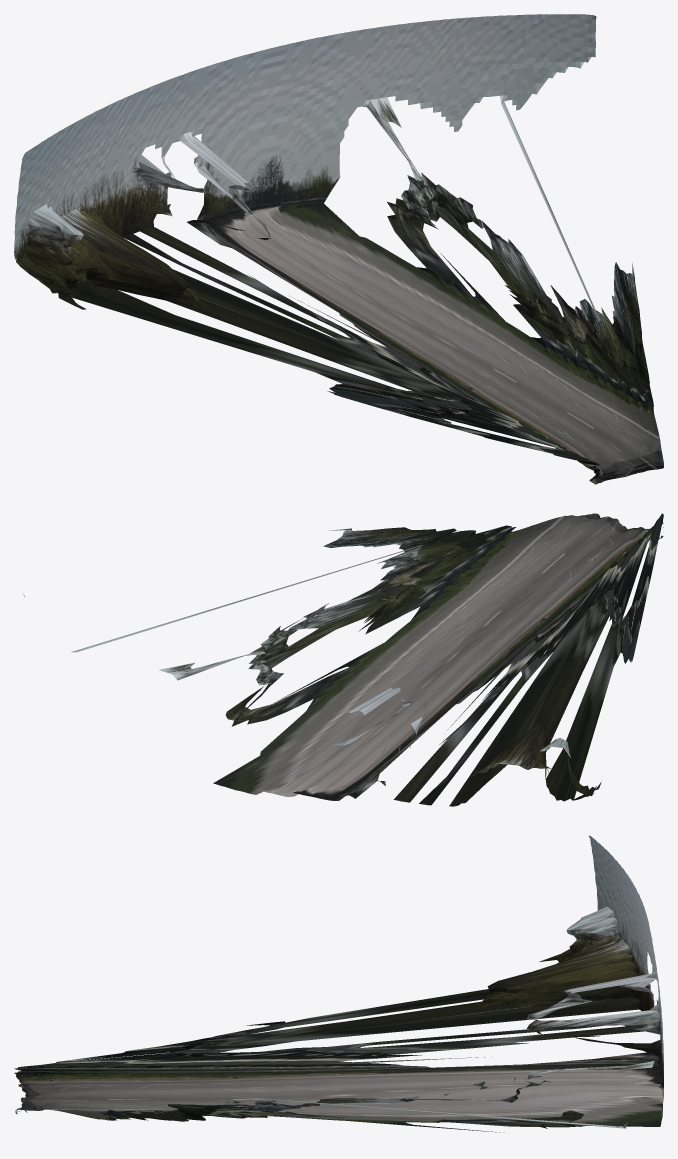
The picture shows the model from 3 angles, top to bottom: view 1: azimuth 30°, elevation 25°; view 2: azimuth 150°, elevation 25°; view 3: azimuth 270°, elevation 25°; orthographic projection. The views are drawn at different scales.
Parts seen in each view (by area): view 1: defaultobject; view 2: defaultobject; view 3: defaultobject.
Part boxes in pixels (left/top/right/bottom): defaultobject: left=14, top=14, right=663, bottom=484; defaultobject: left=23, top=513, right=663, bottom=806; defaultobject: left=14, top=835, right=663, bottom=1132.
Size of the model in its own units: 41 by 11.87 by 44.65.
1 material, 1 textured.
